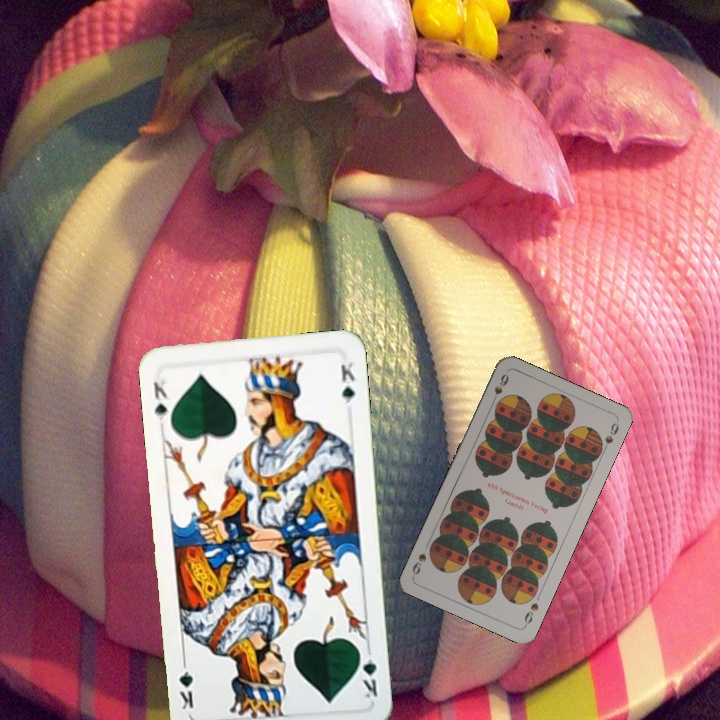GK: (355, 643, 380, 701), (149, 376, 170, 424)
S9: (487, 370, 511, 407), (520, 598, 541, 629)
